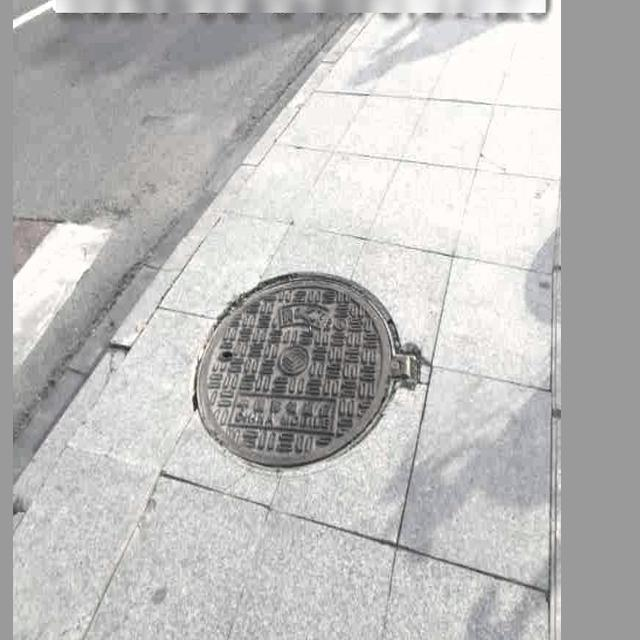good: (193, 270, 414, 467)
